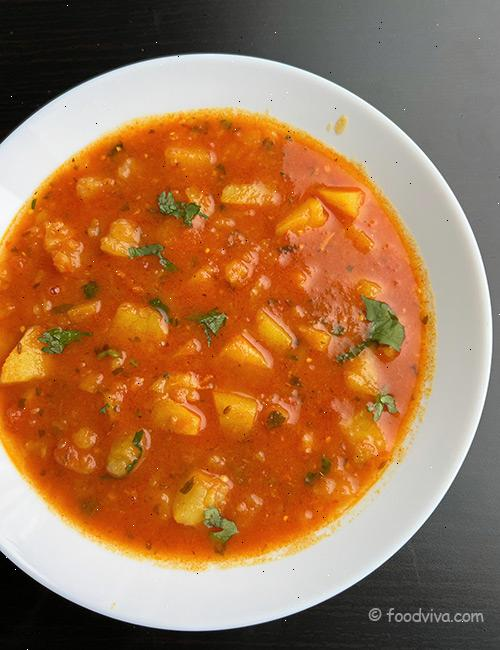aloo sabji: (34, 157, 432, 486)
